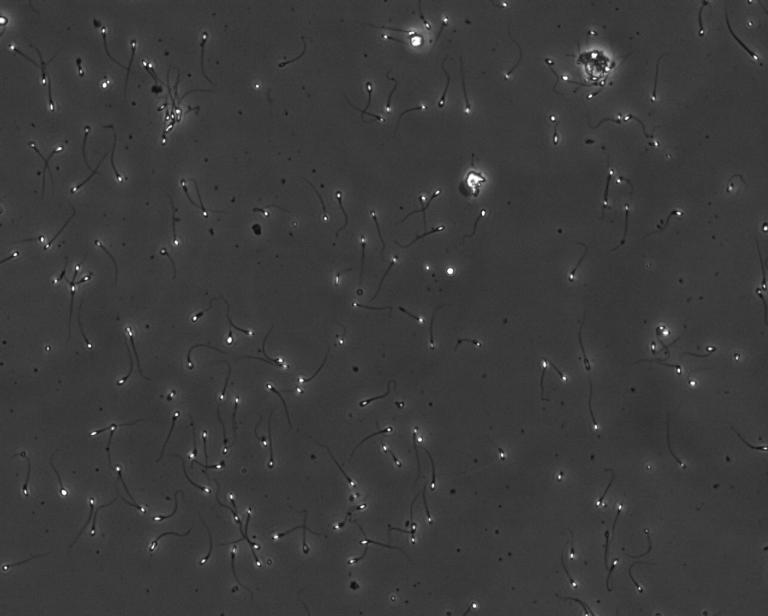cell: (588, 48, 614, 74), (405, 30, 428, 52), (576, 47, 597, 68)
